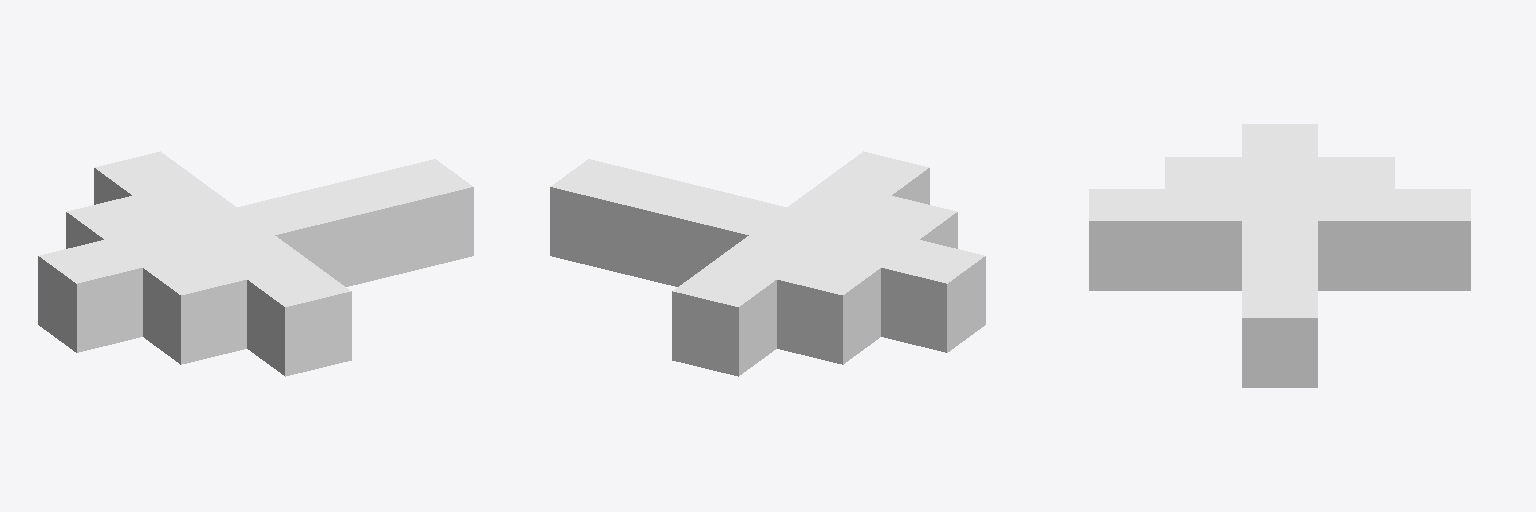
File: kompasv3-1.obj
The picture shows the model from 3 angles: view 1: azimuth 30°, elevation 25°; view 2: azimuth 150°, elevation 25°; view 3: azimuth 270°, elevation 25°; orthographic projection.
Parts seen in each view (by area): view 1: object 1; view 2: object 1; view 3: object 1.
Boxes of the visible parts, <box> form: object 1: <box>38,151,473,376</box>; object 1: <box>550,151,985,376</box>; object 1: <box>1089,124,1470,387</box>.
Size of the model in its own units: 0.6 by 0.1 by 0.5.